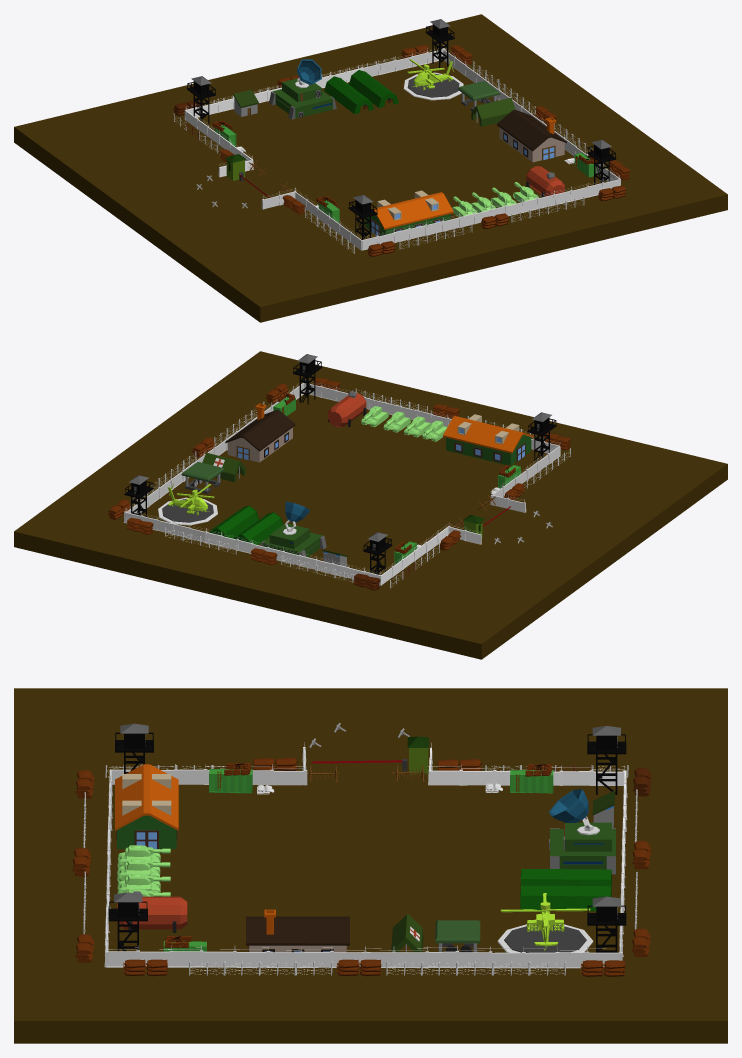
Rendered from military_base_update_3 (2).fbx.
The picture shows the model from 3 angles, top to bottom: view 1: azimuth 30°, elevation 25°; view 2: azimuth 150°, elevation 25°; view 3: azimuth 270°, elevation 25°; orthographic projection. The views are drawn at different scales.
Parts seen in each view (by area): view 1: Cube, Quarter, Refectory, RadioStation, HelicopterBase, military tent.005, military tent.007, GasTank, MedicTent.001, GateKeeperStation, Attack Helicopter.001, TOWER (+4 smaller); view 2: Cube, Quarter, Refectory, RadioStation, HelicopterBase, GasTank, military tent.007, military tent.005, GateKeeperStation, MedicTent.001, TOWER.003, Attack Helicopter.001 (+3 smaller); view 3: Cube, Quarter, RadioStation, Refectory, HelicopterBase, military tent.007, GasTank, military tent.005, GateKeeperStation, TOWER.001, TOWER.003, Attack Helicopter.001 (+19 smaller).
Part boxes in pixels (box(x1,y1,x2,y2)): Cube: box(14, 14, 727, 322); Quarter: box(365, 190, 453, 236); Refectory: box(497, 109, 566, 162); RadioStation: box(269, 59, 336, 119); HelicopterBase: box(403, 72, 463, 100); military tent.005: box(324, 76, 374, 113); military tent.007: box(349, 70, 398, 107); GasTank: box(526, 166, 564, 197); MedicTent.001: box(471, 98, 515, 126); GateKeeperStation: box(458, 81, 500, 110); Attack Helicopter.001: box(407, 59, 453, 90); TOWER: box(425, 24, 454, 68); Cube: box(14, 351, 727, 659); Quarter: box(443, 414, 533, 465); Refectory: box(225, 403, 295, 462); RadioStation: box(260, 501, 326, 557); HelicopterBase: box(158, 497, 217, 525); GasTank: box(328, 391, 366, 427); military tent.007: box(209, 505, 259, 538); military tent.005: box(234, 512, 283, 544); GateKeeperStation: box(181, 462, 223, 493); MedicTent.001: box(202, 452, 245, 482); TOWER.003: box(293, 359, 322, 404); Attack Helicopter.001: box(167, 483, 214, 515); Cube: box(14, 688, 727, 1043); Quarter: box(115, 764, 178, 848); RadioStation: box(548, 789, 615, 874); Refectory: box(246, 909, 349, 952); HelicopterBase: box(497, 924, 593, 952); military tent.007: box(520, 885, 611, 911); GasTank: box(117, 891, 187, 932); military tent.005: box(520, 868, 611, 890); GateKeeperStation: box(435, 920, 480, 952); TOWER.001: box(587, 734, 626, 794); TOWER.003: box(108, 901, 147, 951); Attack Helicopter.001: box(500, 893, 590, 950).
Size of what is drawn, in the model's own units: 13369 by 1732 by 12194.
